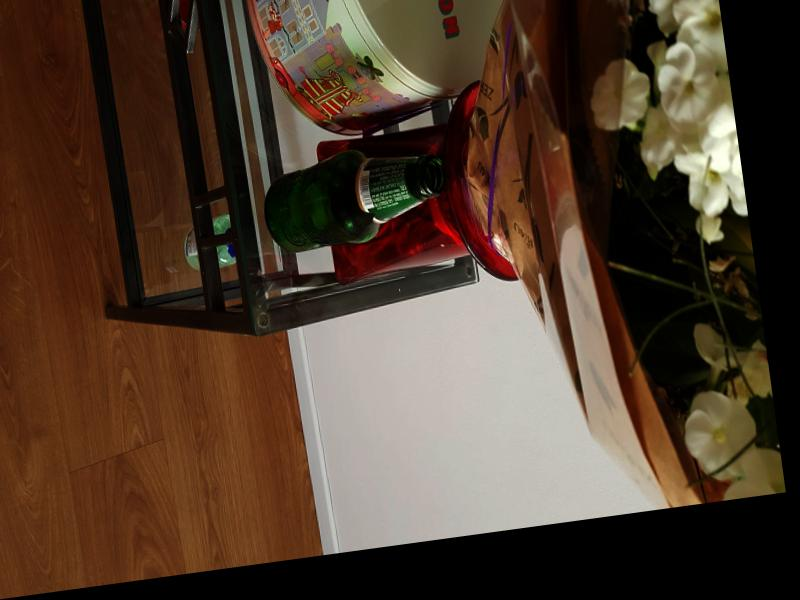Beer: (255, 137, 451, 257)
